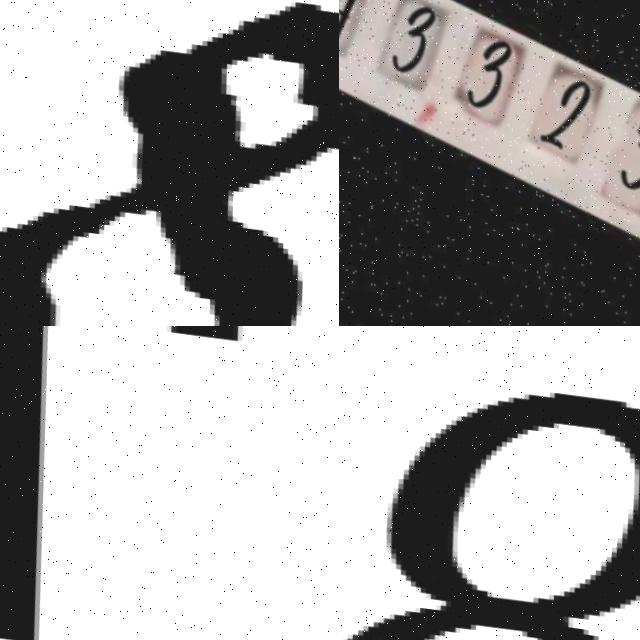2: (503, 56, 606, 166)
3: (427, 16, 530, 127), (353, 0, 455, 92), (579, 90, 640, 208)
4: (339, 0, 380, 62)
8: (0, 0, 339, 326), (339, 345, 640, 640)
R: (0, 326, 290, 640)
